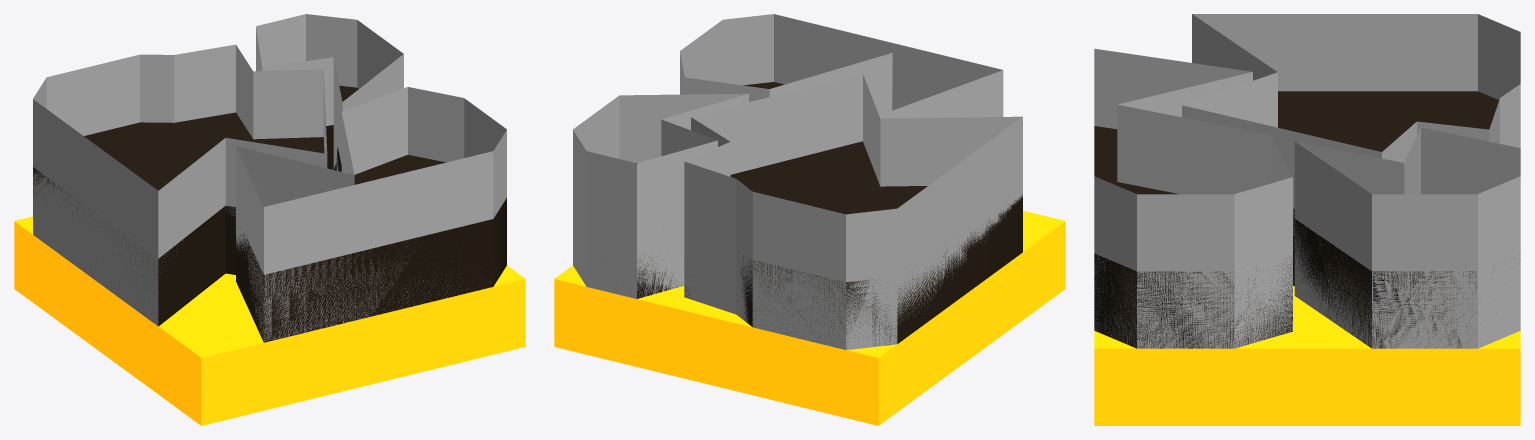
The model's file is FloorTile2.fbx.
3 views of the same model, side by side, from view 1: azimuth 30°, elevation 25°; view 2: azimuth 150°, elevation 25°; view 3: azimuth 270°, elevation 25° (orthographic). The views are drawn at different scales.
Parts seen in each view (by area): view 1: Flames.001, Lava, RockBasic1LP; view 2: Flames.001, Lava, RockBasic1LP; view 3: Flames.001, Lava, RockBasic1LP.
Boxes of the visible parts, x1,y1,x2,y2 form: Flames.001: [33, 14, 506, 342]; Lava: [14, 216, 525, 425]; RockBasic1LP: [33, 85, 506, 342]; Flames.001: [573, 14, 1022, 349]; Lava: [554, 210, 1065, 425]; RockBasic1LP: [636, 82, 1022, 348]; Flames.001: [1094, 14, 1520, 348]; Lava: [1094, 286, 1520, 425]; RockBasic1LP: [1094, 91, 1498, 348].
Bounding box in the file's own units: 100 × 60 × 100.
